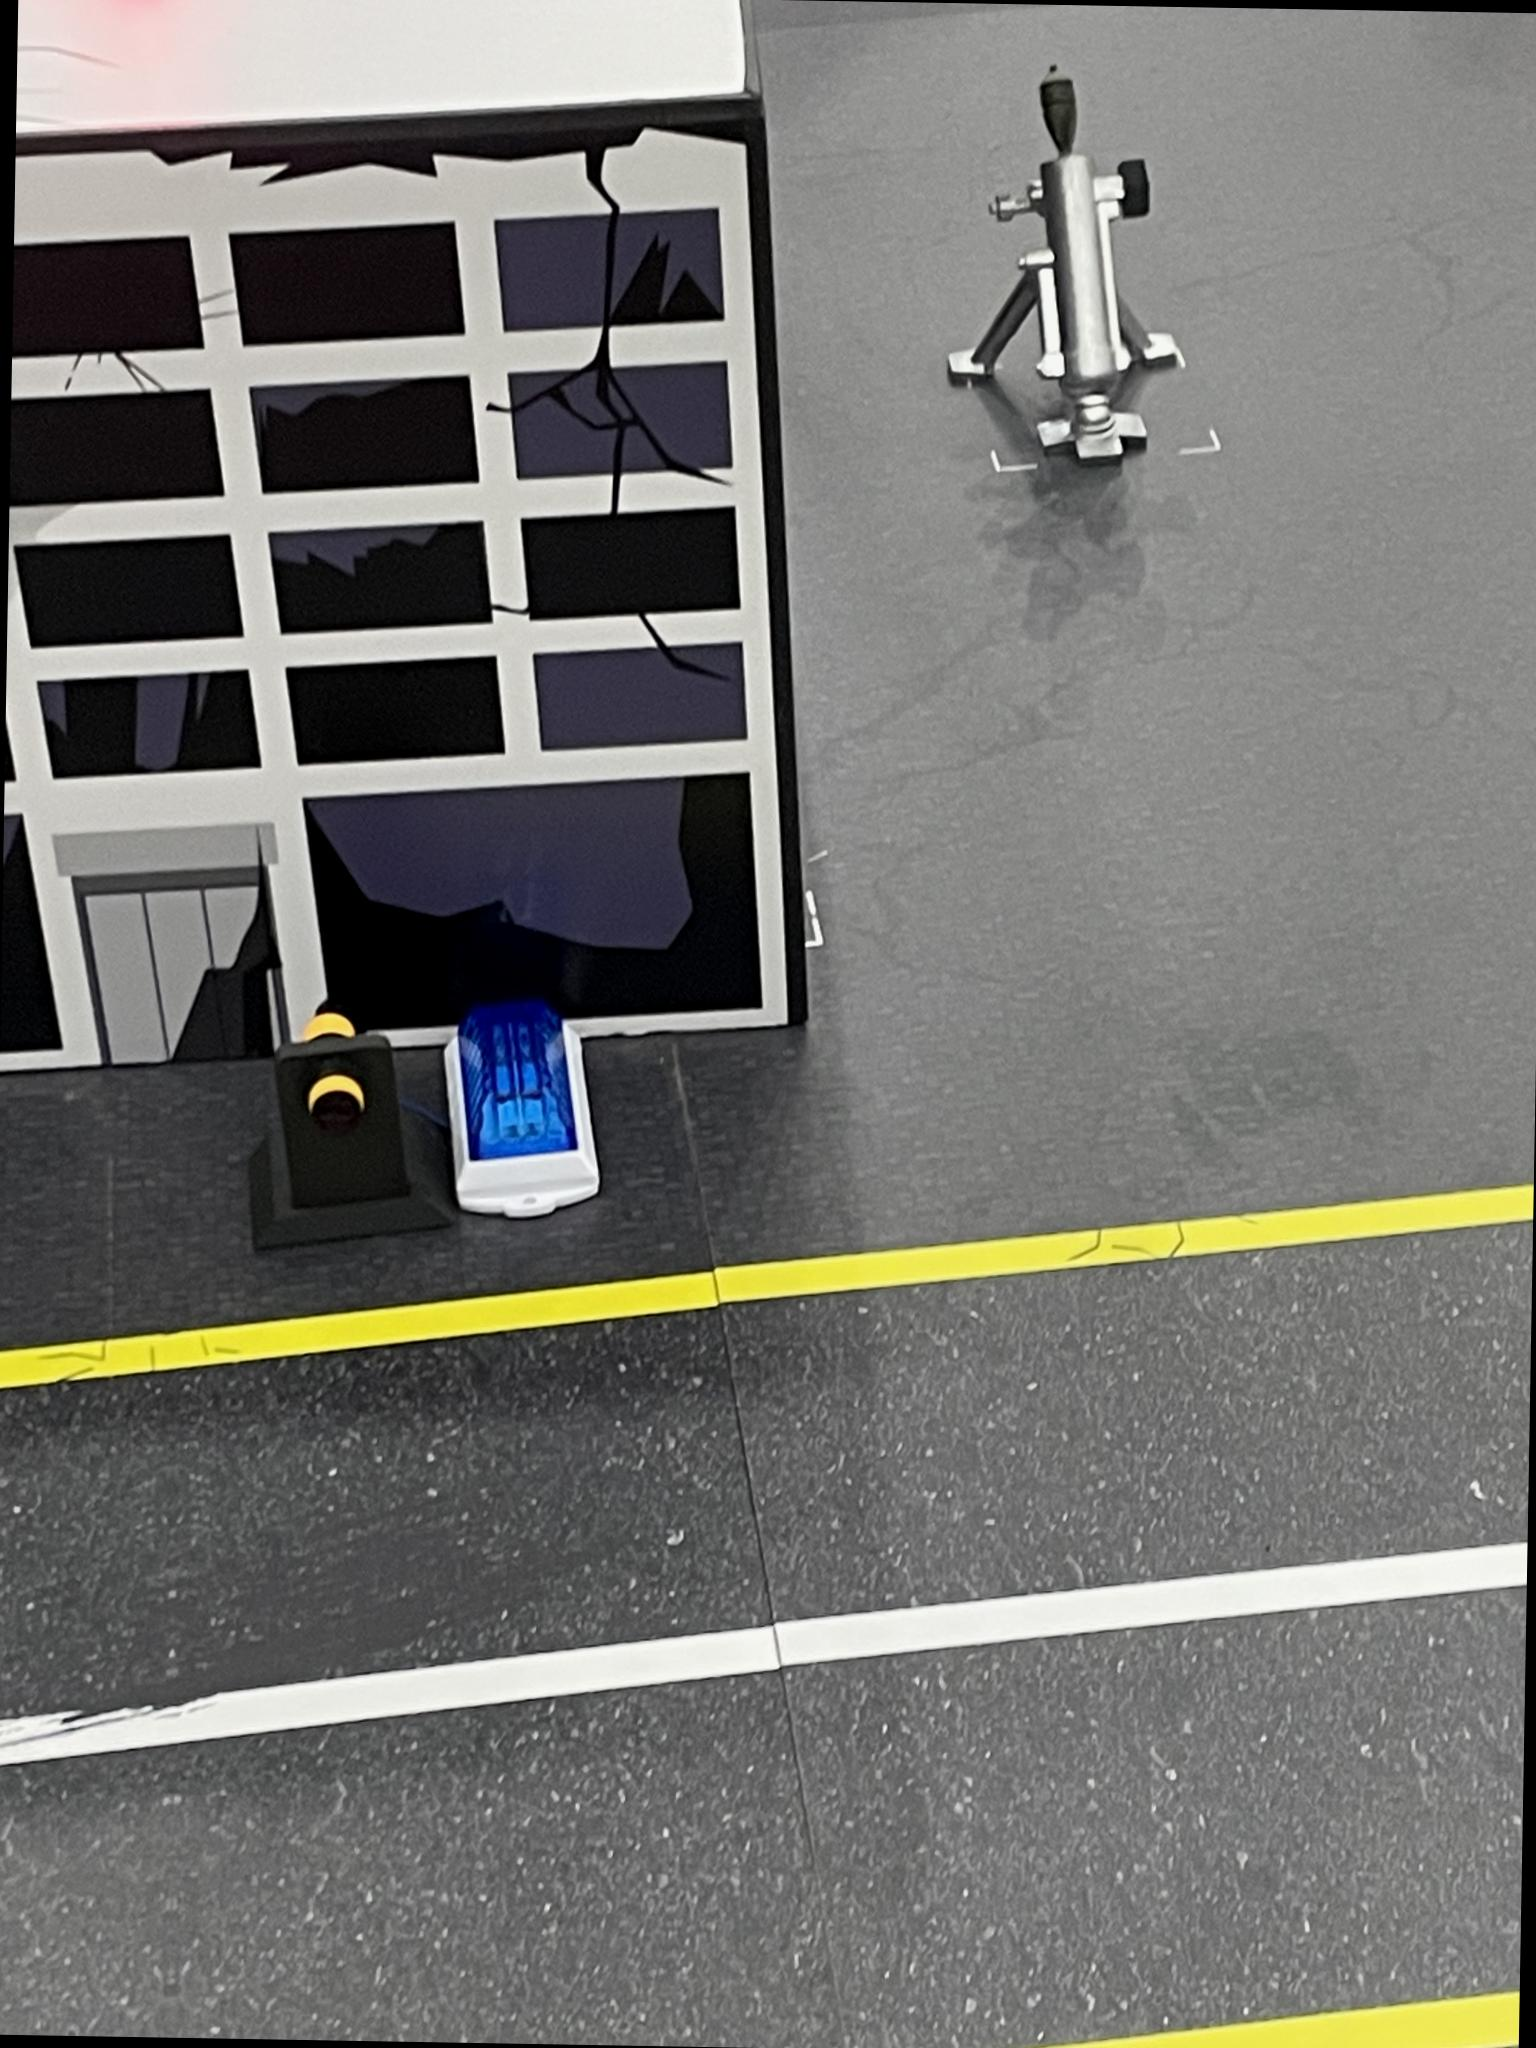Mortar: (934, 52, 1199, 482)
